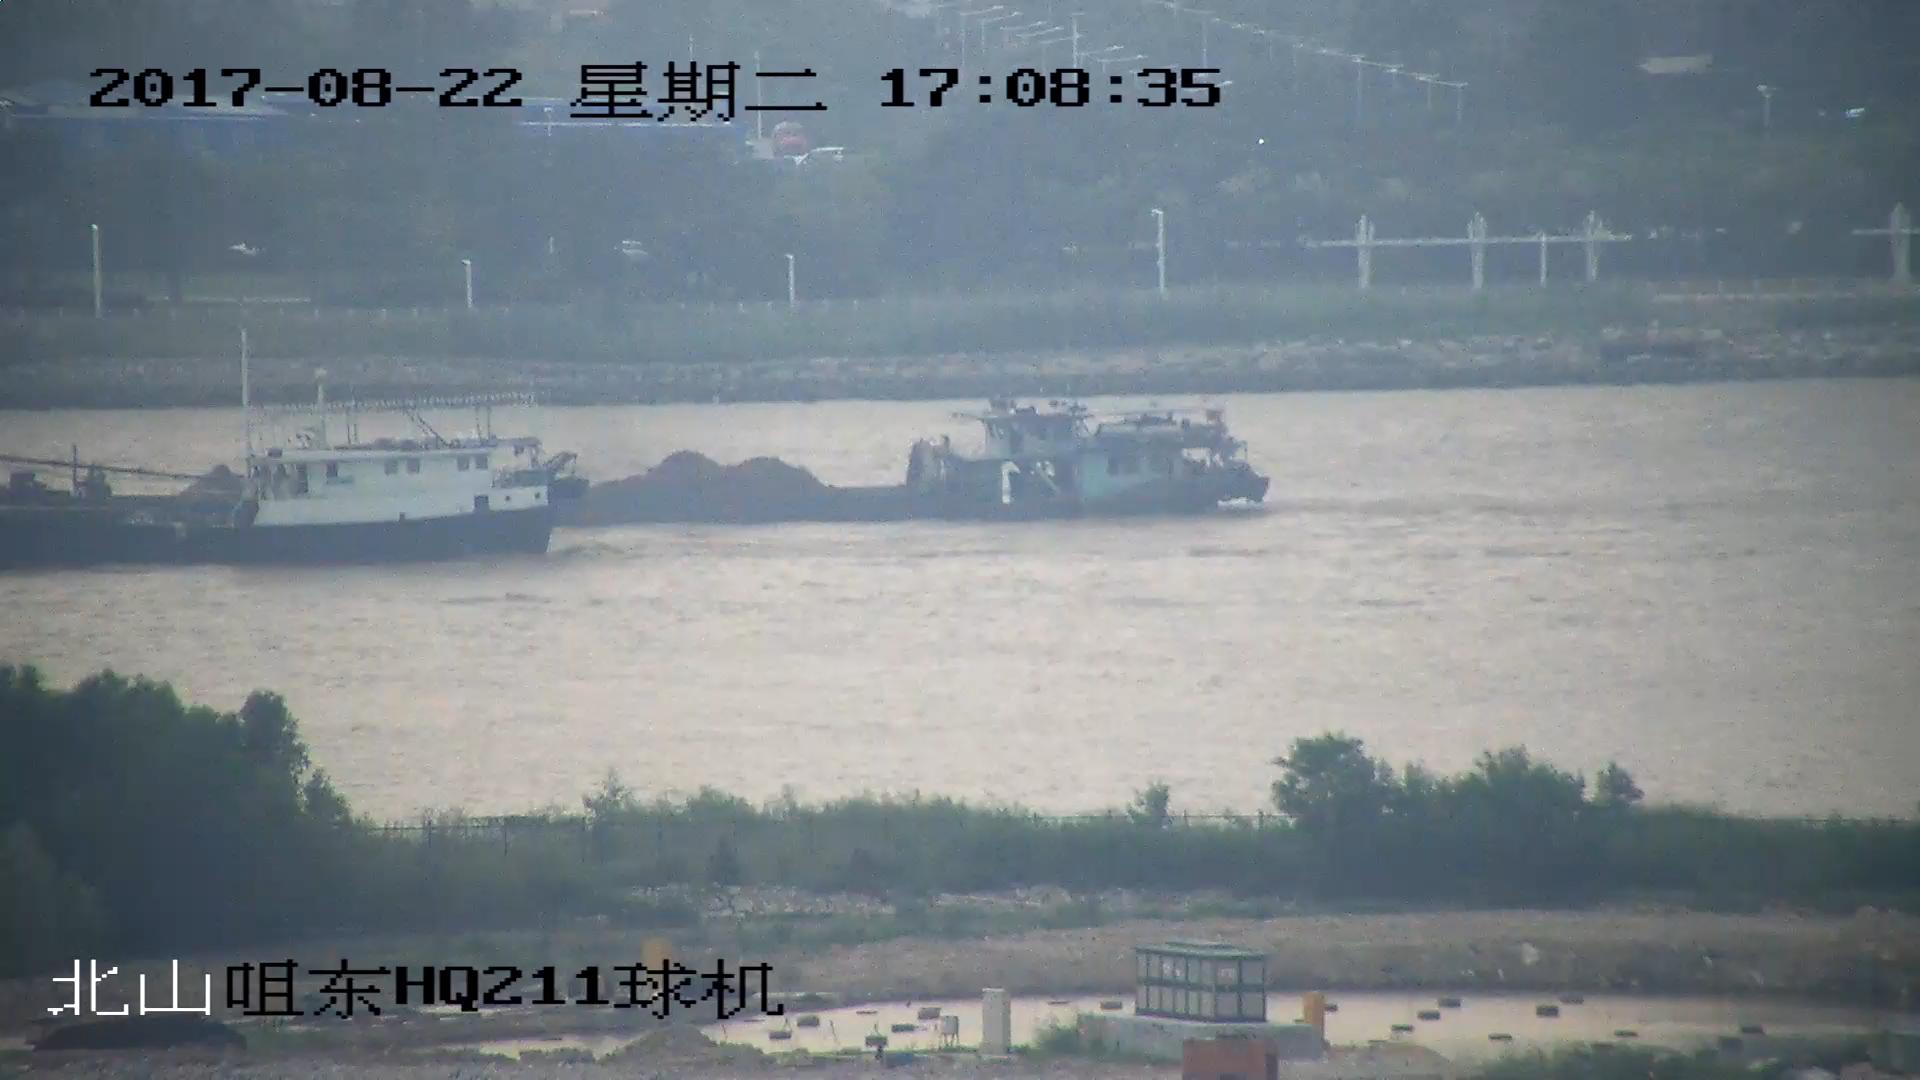fishing boat: (1, 379, 559, 567)
ore carrier: (1, 395, 1280, 527)
